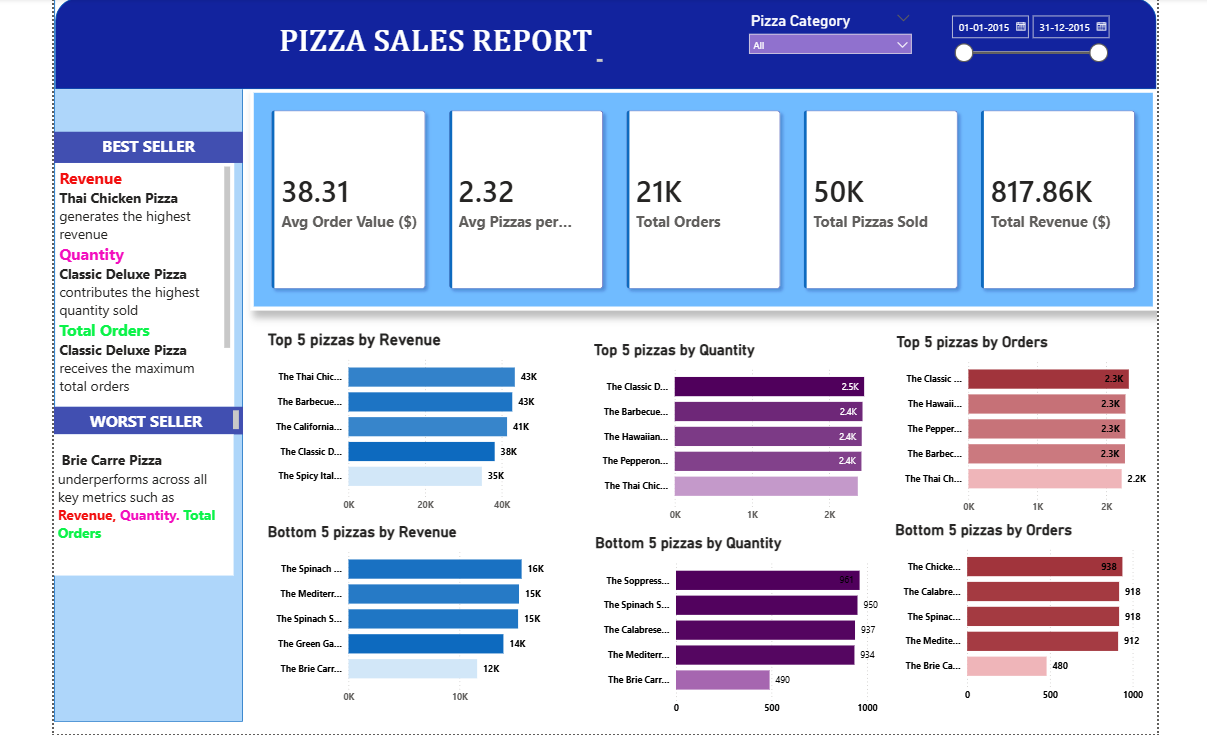

What the dashboard file says about the page in this screenshot:
{"tool":"powerbi","page":{"name":"Best/Worst Sellers","canvas":[1500,1000],"ordinal":1},"visuals":[{"type":"cardVisual","fields":{"Data":["pizza_sales.Avg Order Value","pizza_sales.Avg Pizzas per Order","pizza_sales.Total Orders","pizza_sales.Total Pizzas","pizza_sales.Total Revenue"]},"box":[266.6,124,1233,300.6],"z":0},{"type":"qnaVisual","box":[1267.1,705.7,12.9,14.3],"z":1000},{"type":"shape","box":[0,0,256.5,983.4],"z":2000},{"type":"textbox","box":[0,181.7,256.5,42.5],"z":3000},{"type":"textbox","box":[1.7,224.2,242.9,331.2],"z":4000},{"type":"textbox","box":[0,555.4,256.5,37.4],"z":5000},{"type":"textbox","box":[0,592,244,192],"z":6000},{"type":"shape","box":[1.7,0,1496.3,124],"z":7000},{"type":"slicer","fields":{"Values":["pizza_sales.pizza_category"]},"box":[934.1,13.6,241.2,98.5],"z":8000},{"type":"slicer","fields":{"Values":["pizza_sales.order_date"]},"box":[1207.5,13.6,232.7,98.5],"z":9000},{"type":"textbox","title":"PIZZA SALES REPORT","box":[300.6,34,450.1,57.7],"z":10000},{"type":"barChart","title":"Top 5 pizzas by Revenue","fields":{"Category":["pizza_sales.pizza_name"],"Y":["pizza_sales.Total Revenue ($)"]},"box":[285.3,451.8,409.3,254.8],"z":11000},{"type":"barChart","title":"Bottom 5 pizzas by Revenue","fields":{"Category":["pizza_sales.pizza_name"],"Y":["pizza_sales.Total Revenue ($)"]},"box":[285.3,713.3,409.3,254.8],"z":12000},{"type":"barChart","title":"Top 5 pizzas by Quantity","fields":{"Category":["pizza_sales.pizza_name"],"Y":["pizza_sales.Total Pizzas Sold"]},"box":[728.6,465.4,409.3,254.8],"z":13000},{"type":"barChart","title":"Bottom 5 pizzas by Quantity","fields":{"Category":["pizza_sales.pizza_name"],"Y":["pizza_sales.Total Pizzas Sold"]},"box":[730.3,728.6,409.3,254.8],"z":14000},{"type":"barChart","title":"Top 5 pizzas by Orders","fields":{"Category":["pizza_sales.pizza_name"],"Y":["pizza_sales.Total Orders"]},"box":[1139.6,455.2,360.1,254.8],"z":15000},{"type":"barChart","title":"Bottom 5 pizzas by Orders","fields":{"Category":["pizza_sales.pizza_name"],"Y":["pizza_sales.Total Orders"]},"box":[1137.9,709.9,360.1,254.8],"z":16000}]}

Visuals, with their boxes on the page's 1500x1000 design canvas (x1, y1, x2, y2). These are canvas units, not pixel positions in the 1207x737 screenshot, which may show the page scaled, cropped or inside an application window:
cardVisual - pizza_sales.Avg Order Value x pizza_sales.Avg Pizzas per Order: locate(267, 124, 1500, 425)
qnaVisual: locate(1267, 706, 1280, 720)
shape: locate(0, 0, 256, 983)
textbox: locate(0, 182, 256, 224)
textbox: locate(2, 224, 245, 555)
textbox: locate(0, 555, 256, 593)
textbox: locate(0, 592, 244, 784)
shape: locate(2, 0, 1498, 124)
slicer - pizza_sales.pizza_category: locate(934, 14, 1175, 112)
slicer - pizza_sales.order_date: locate(1208, 14, 1440, 112)
"PIZZA SALES REPORT" textbox: locate(301, 34, 751, 92)
"Top 5 pizzas by Revenue" barChart: locate(285, 452, 695, 707)
"Bottom 5 pizzas by Revenue" barChart: locate(285, 713, 695, 968)
"Top 5 pizzas by Quantity" barChart: locate(729, 465, 1138, 720)
"Bottom 5 pizzas by Quantity" barChart: locate(730, 729, 1140, 983)
"Top 5 pizzas by Orders" barChart: locate(1140, 455, 1500, 710)
"Bottom 5 pizzas by Orders" barChart: locate(1138, 710, 1498, 965)
